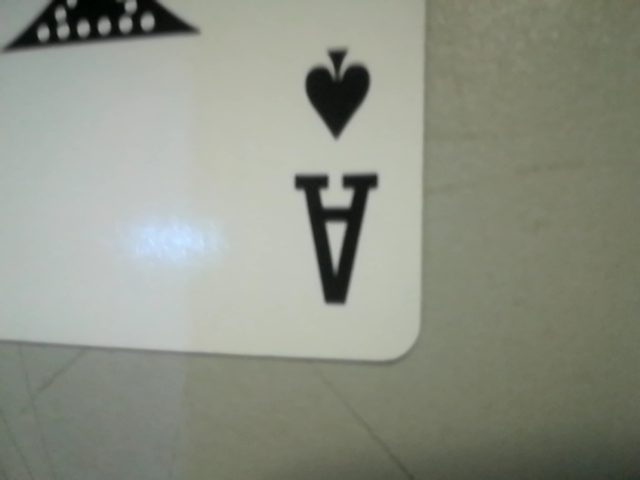ht a: (261, 24, 415, 325)
